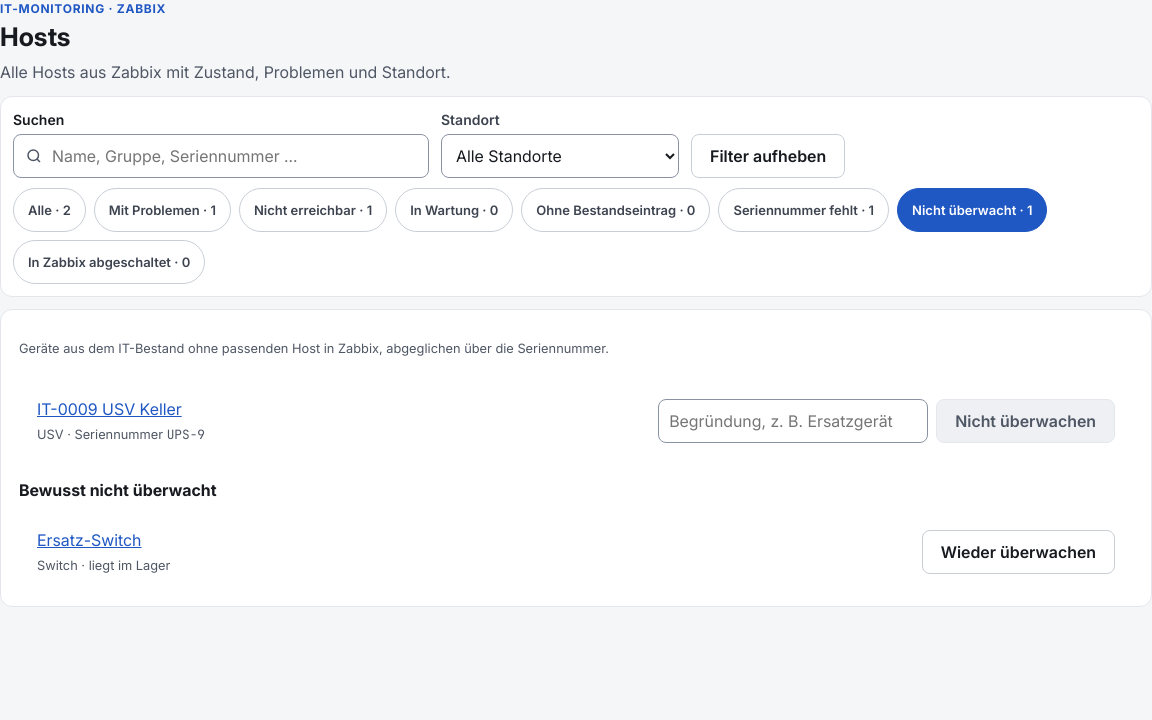
Test: ZabbixHostsPage › markiert ein Gerät erst mit Begründung und Bestätigung
Expected: the button "Nicht überwachen" is disabled, [936,399,1115,443]
Type "Ersatzgerät" into the field named "Begründung für IT-0009 USV Keller" at [793, 421], box [658,399,928,443]
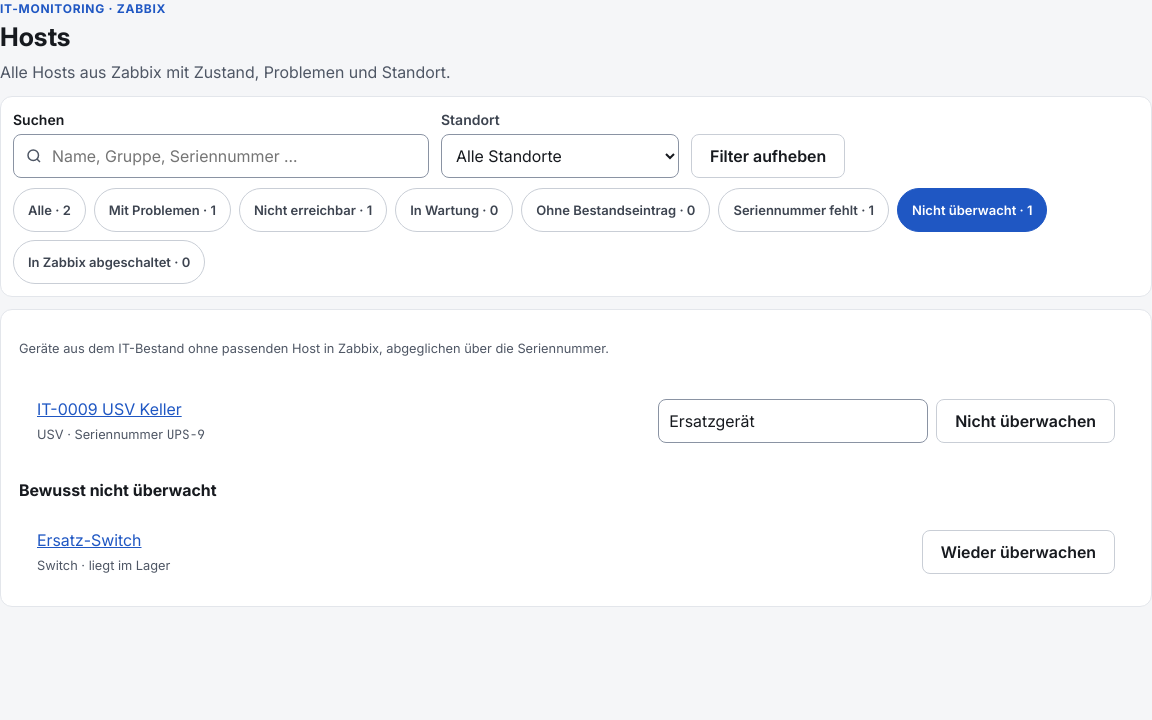
Click the button "Nicht überwachen" at [1026, 421], box [936,399,1115,443]
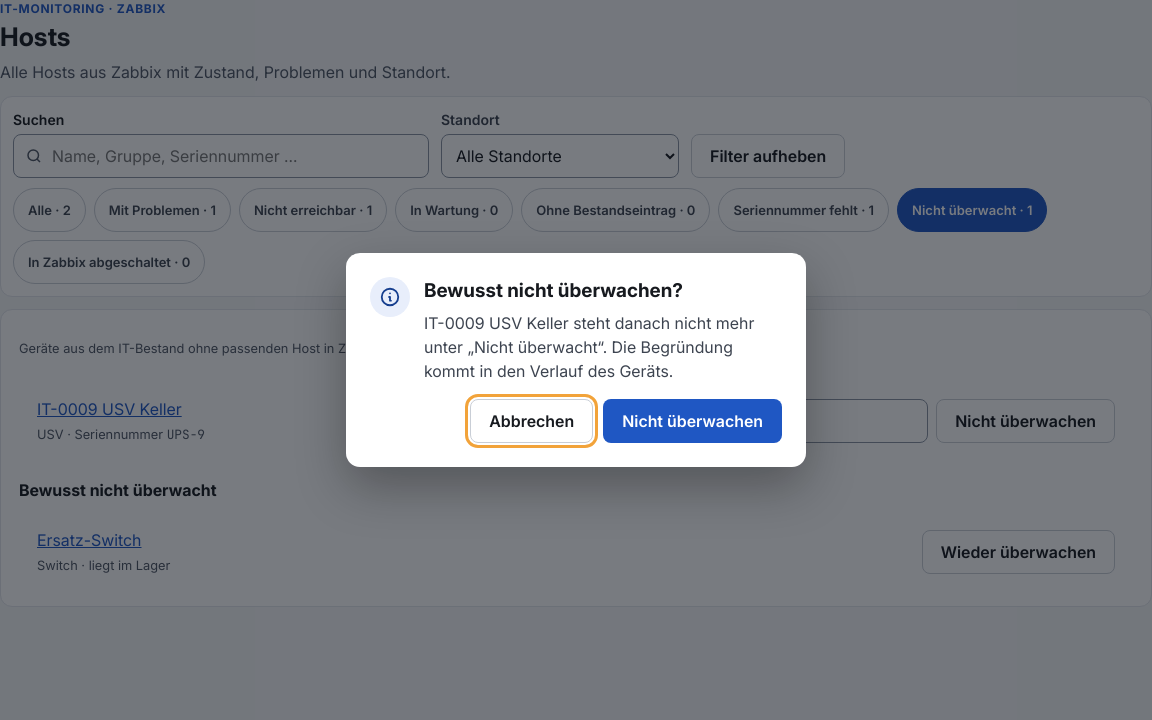
Click the button "Nicht überwachen" at [693, 421], box [603,399,782,443]
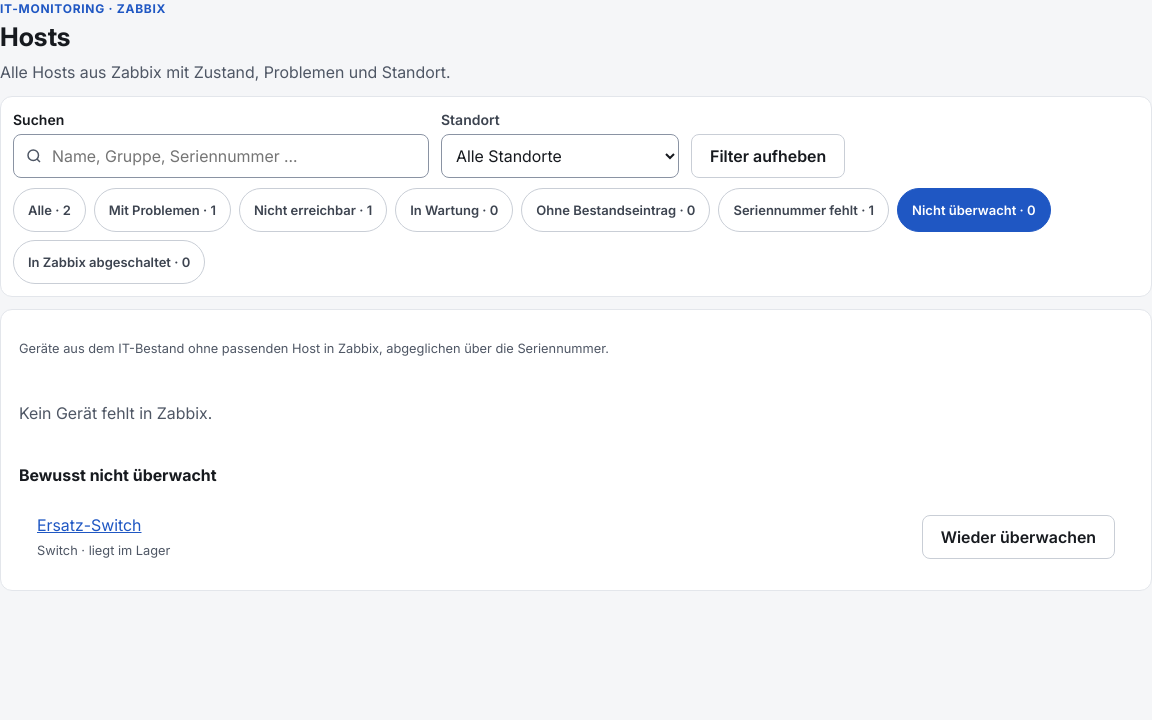
Expected: the text "Kein Gerät fehlt in Zabbix." is shown, [19,403,212,423]
